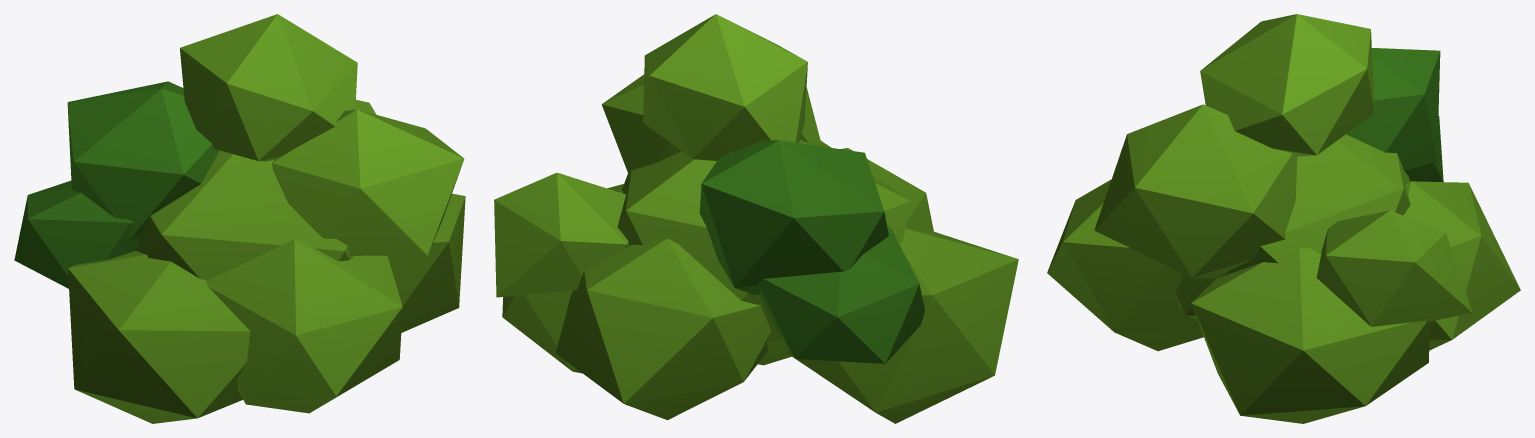
File: birchL.glb
3 renders of one model, left to right at view 1: azimuth 30°, elevation 25°; view 2: azimuth 150°, elevation 25°; view 3: azimuth 270°, elevation 25°, orthographic. The views are drawn at different scales.
Visible parts, largest first — view 1: birchL; view 2: birchL; view 3: birchL.
Boxes of the visible parts, x1,y1,x2,y2 form: birchL: [14, 14, 465, 423]; birchL: [494, 14, 1018, 423]; birchL: [1047, 14, 1520, 423].
Bounding box in the file's own units: 1.03 × 0.8367 × 0.9626.
